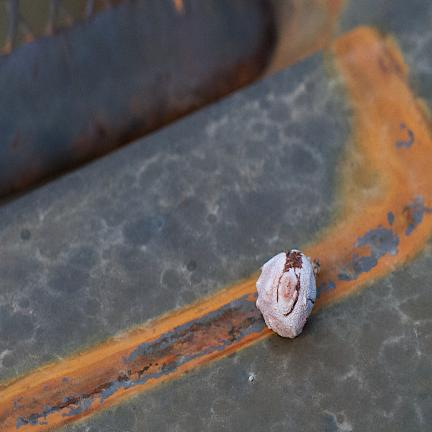karat: (276, 27, 432, 317), (0, 271, 274, 432)
